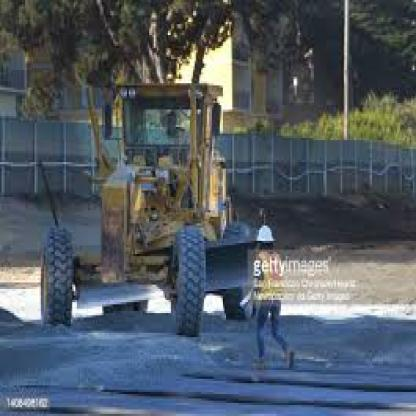bull_dozer/loader/grader: (39, 77, 278, 339)
